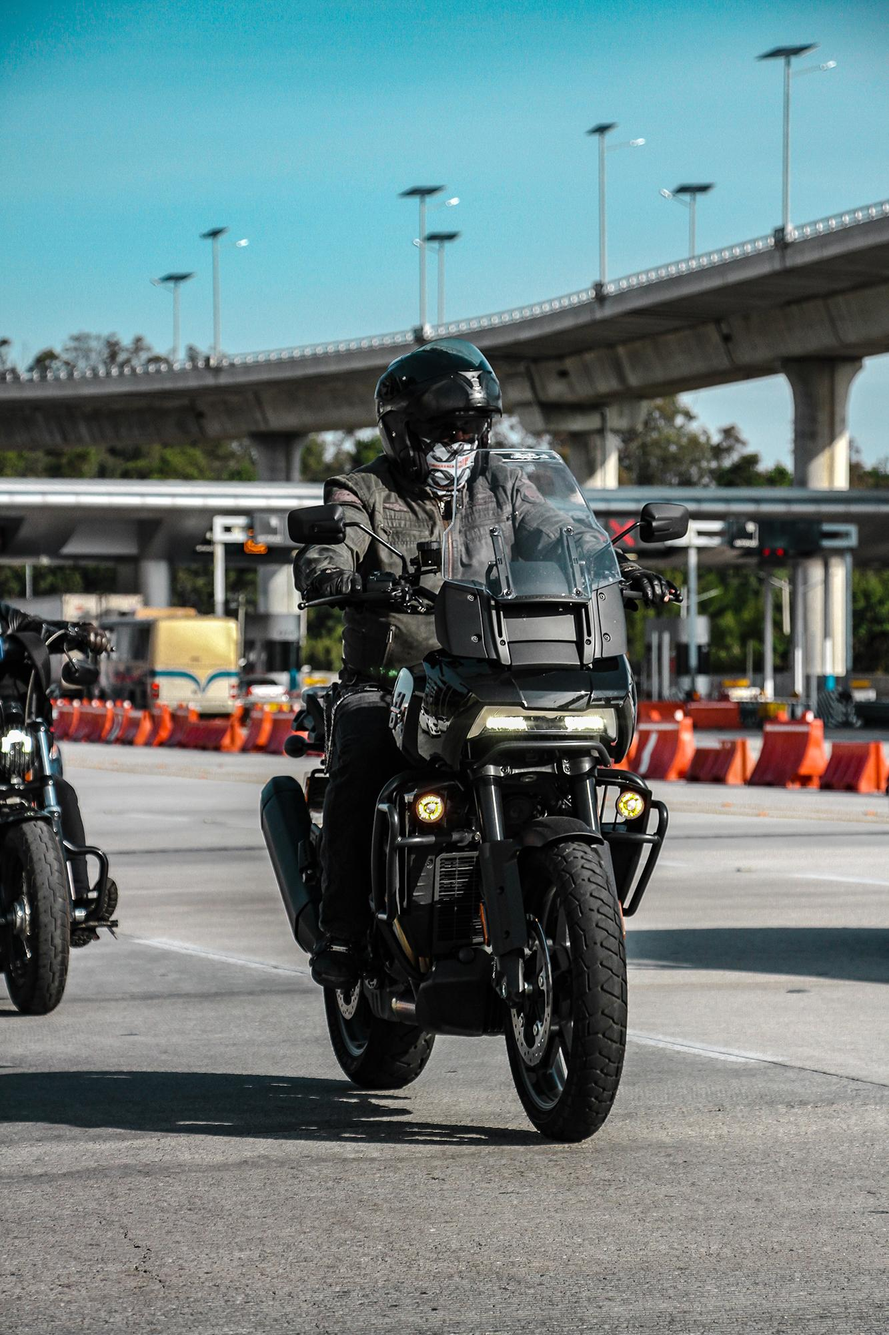helmet: (373, 336, 504, 499)
